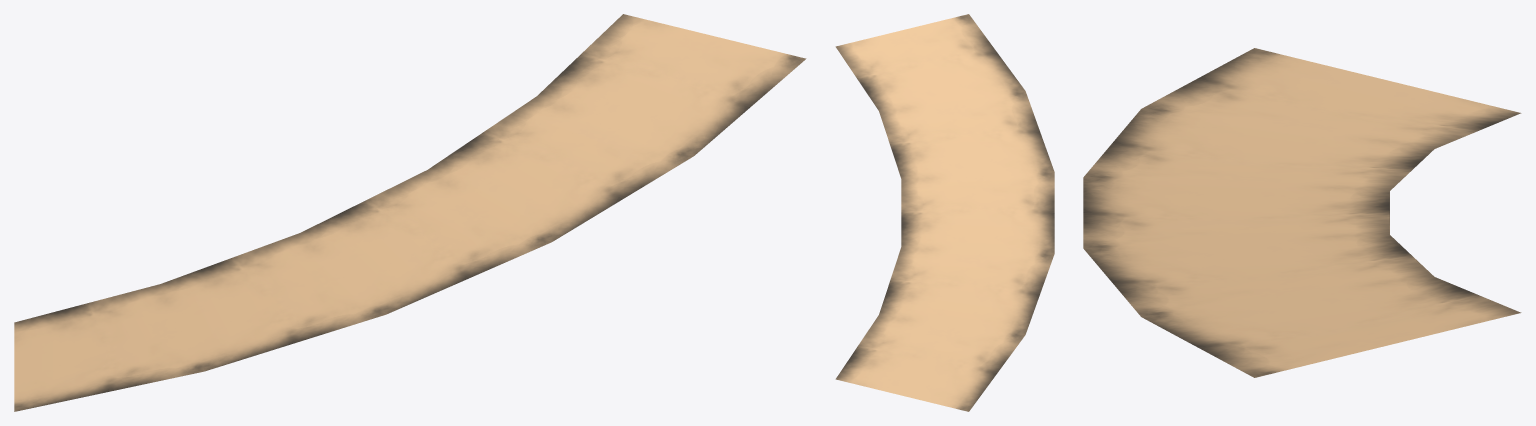
The model's file is CourseSummer_Floor_10.fbx.
The picture shows the model from 3 angles, left to right: view 1: azimuth 90°, elevation 25°; view 2: azimuth 150°, elevation 25°; view 3: azimuth 330°, elevation 25°; orthographic projection. The views are drawn at different scales.
Parts seen in each view (by area): view 1: polySurface41; view 2: polySurface41; view 3: polySurface41.
Part boxes in pixels (left/top/right/bottom): polySurface41: left=14, top=14, right=806, bottom=411; polySurface41: left=835, top=14, right=1054, bottom=411; polySurface41: left=1083, top=48, right=1521, bottom=377.
Size of the model in its own units: 15.96 by 5 by 22.45.
Materials: 1 (1 with a texture image).
